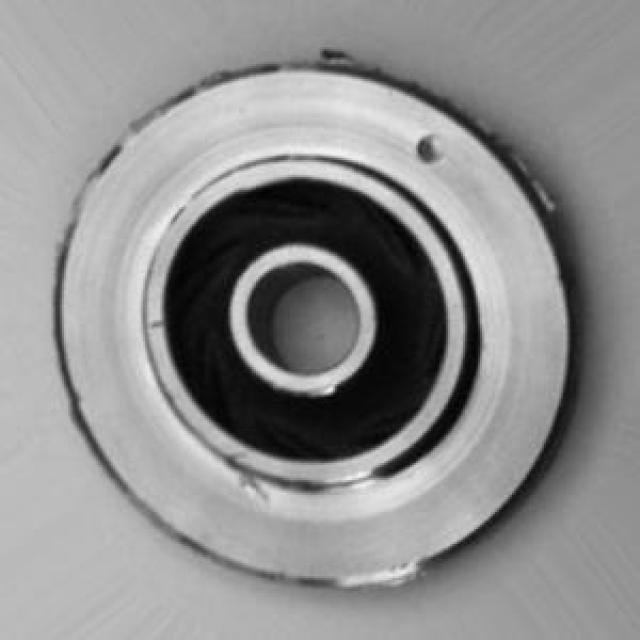Defect: (409, 136, 441, 168)
